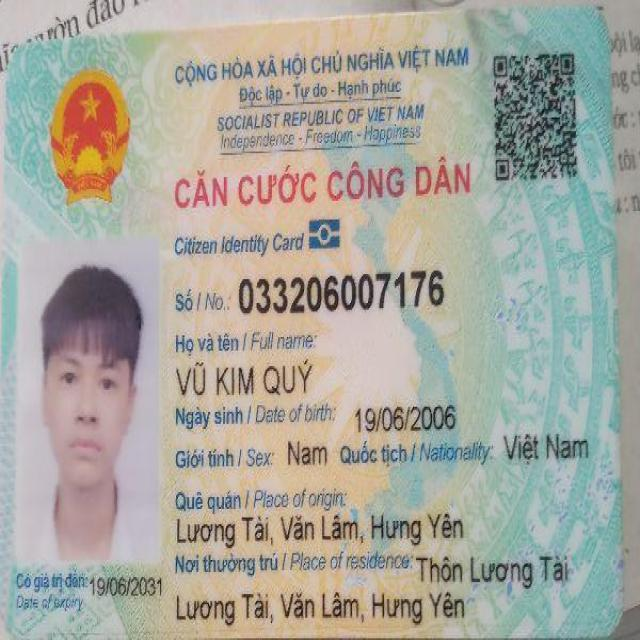current_place: (173, 586, 469, 631), (415, 554, 571, 590)
dob: (353, 398, 464, 437)
expire_date: (87, 571, 165, 602)
gender: (280, 435, 332, 472)
id: (233, 267, 451, 310)
name: (173, 356, 321, 398)
nationality: (498, 427, 601, 463)
origin_place: (175, 511, 467, 549)
qr: (490, 49, 582, 184)
